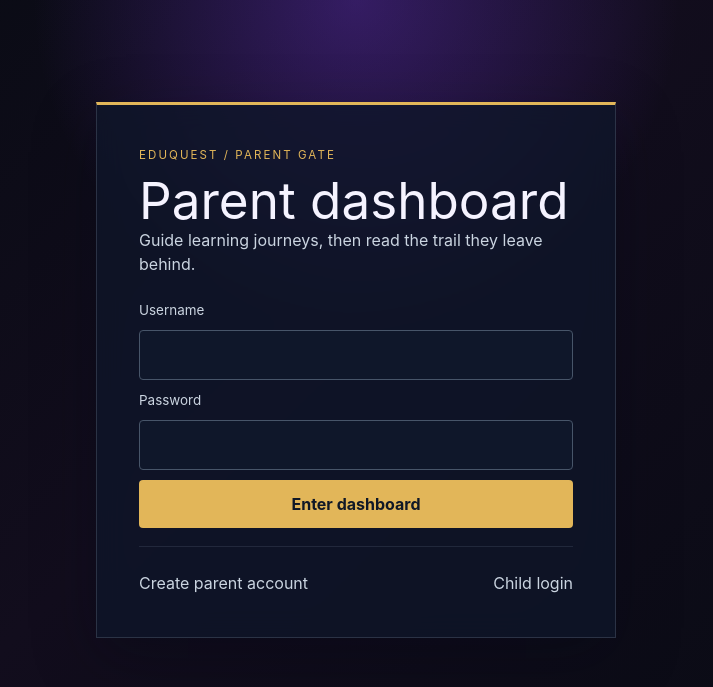
it: EduQuest frontend › logs a child in and routes directly to quest setup
Click the button "Child login".
click(533, 576)  # box [493, 557, 573, 595]
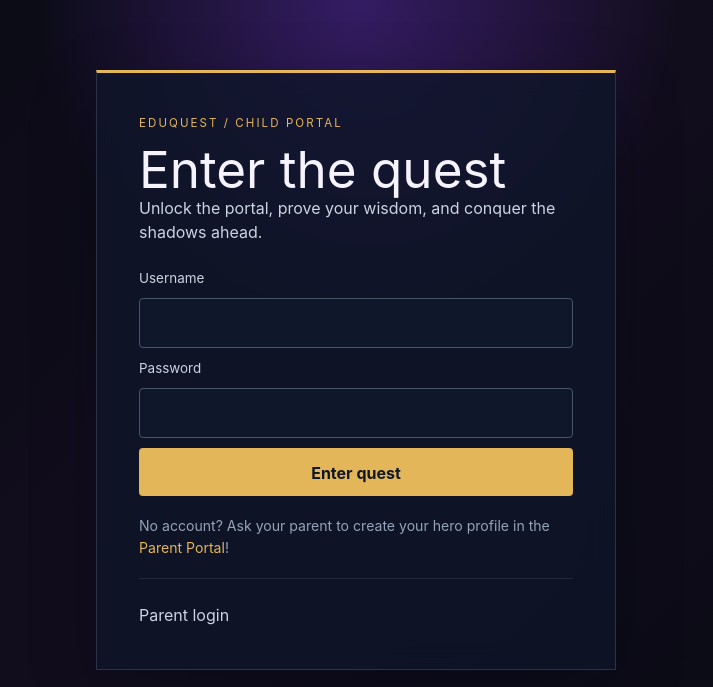
Type "Ari" into the field labelled "Username".
click(356, 324); type("Ari")  # box [139, 298, 573, 348]
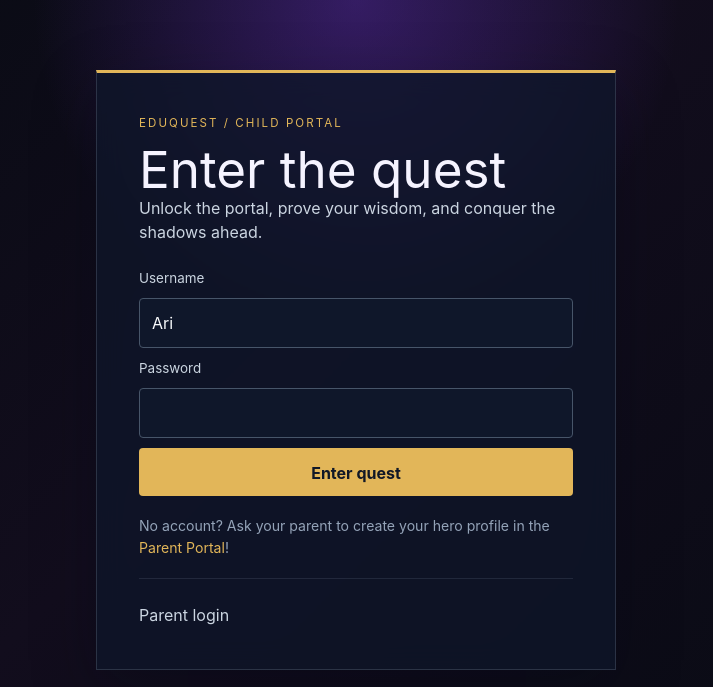
Type "child-password" into the password field labelled "Password".
click(356, 414); type("child-password")  # box [139, 389, 573, 439]
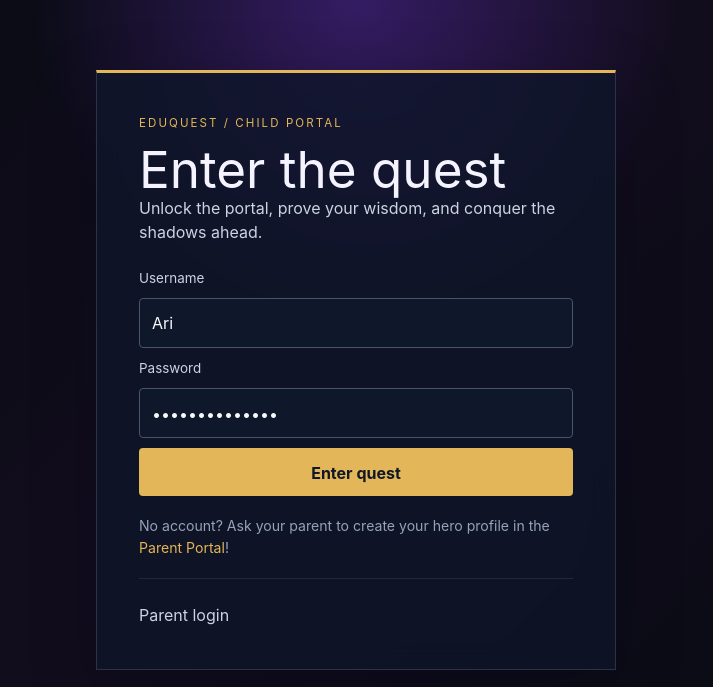
Click the button "Enter quest".
click(356, 473)  # box [139, 449, 573, 497]
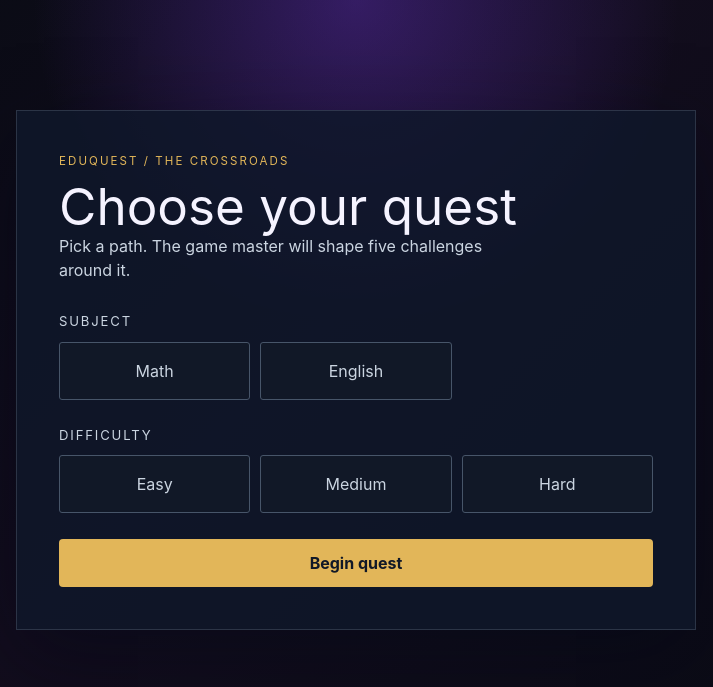
Result: the heading "Choose your quest" is shown at [59, 175, 517, 237]
